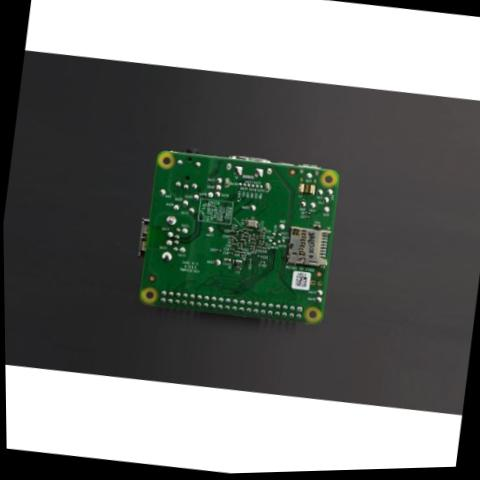Raspberry-Pi-1-Model-A-: (115, 126, 356, 351)
